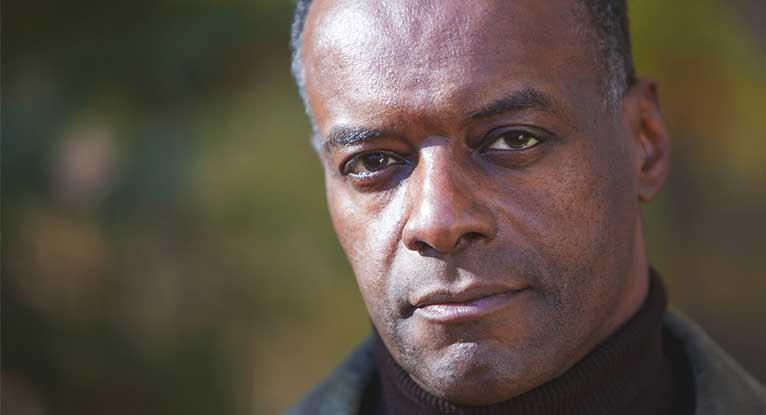normalMouth: (405, 279, 535, 330)
